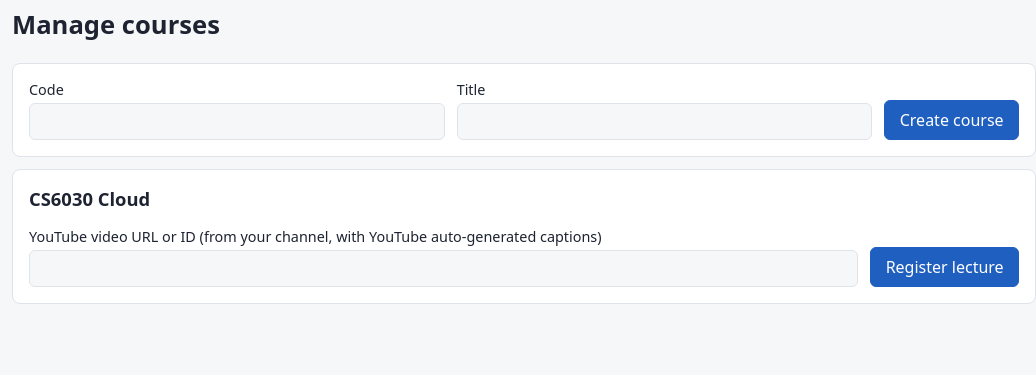
Scenario: <ManagePage> › shows why registration failed
The image size is (1036, 375).
Type "abcdefghijk" into the field labelled "YouTube video URL" at (444, 268), box [29,250,858,287]
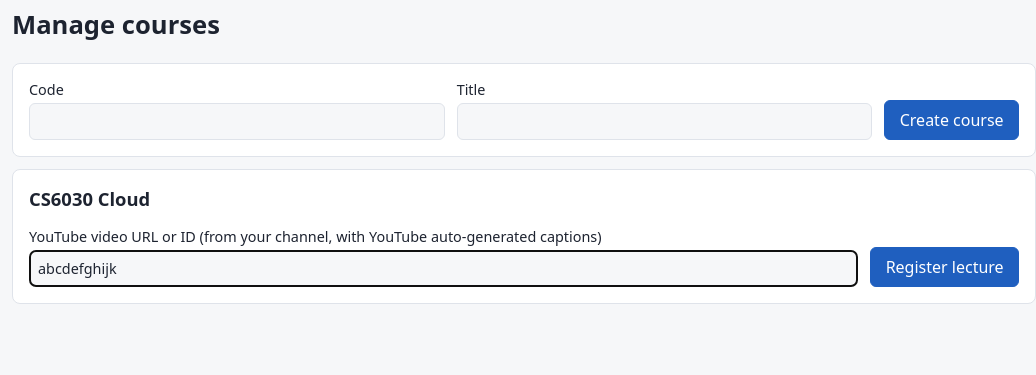
Click the button "Register lecture" at (945, 267), box [870,247,1019,287]
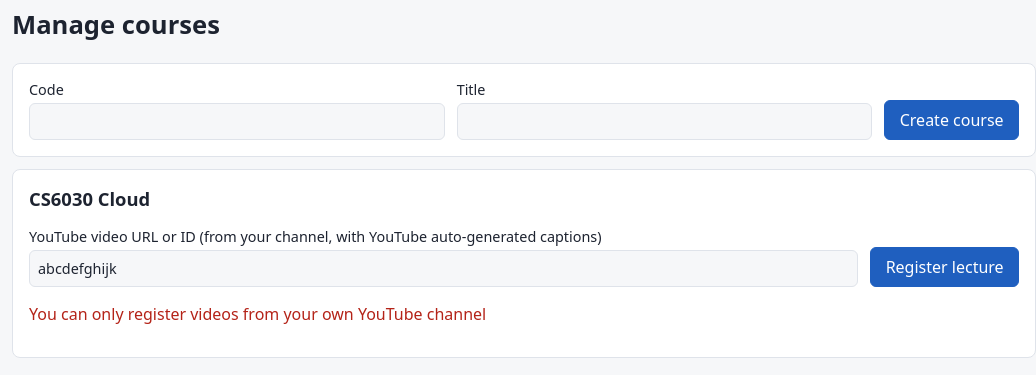
Expected: the message shows "only register videos from your own YouTube channel", [29,303,486,325]
